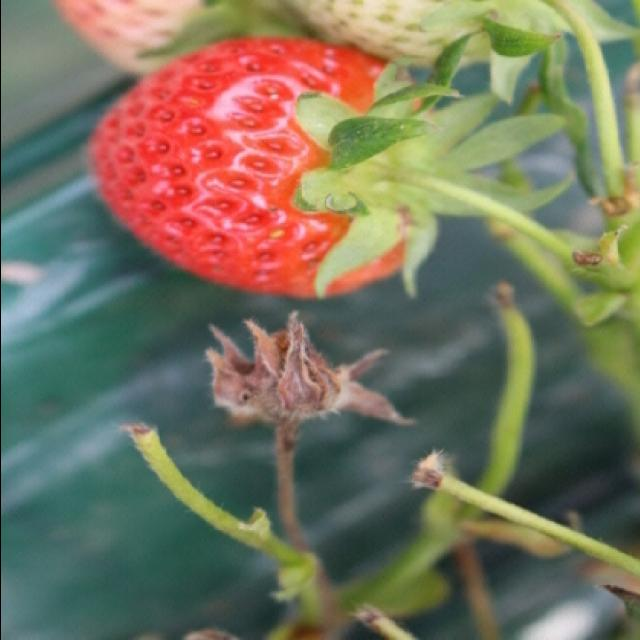Gray Mold: (205, 308, 417, 452)
